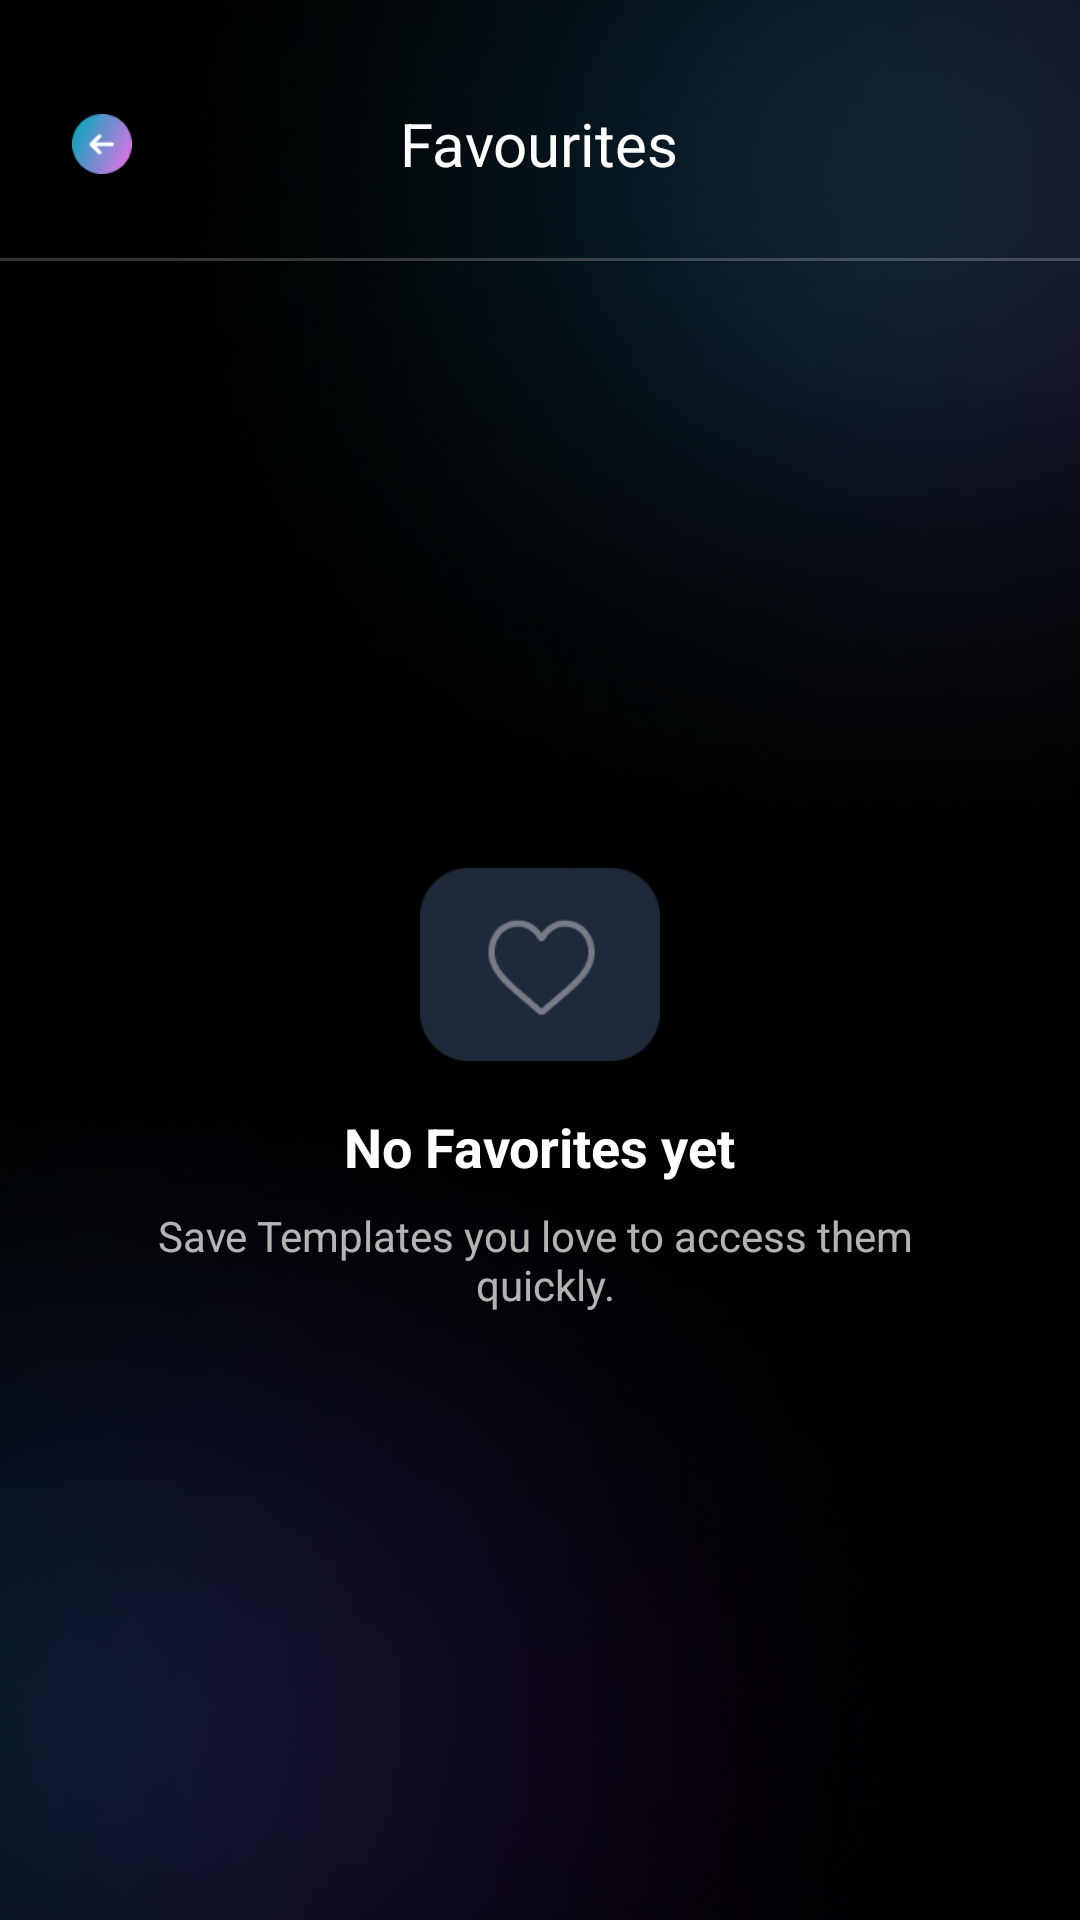

Screen size 1080 x 1920. Icon name, then its box in pixels as box(x1, y1, x2, y2):
back arrow: box(72, 114, 132, 174)
